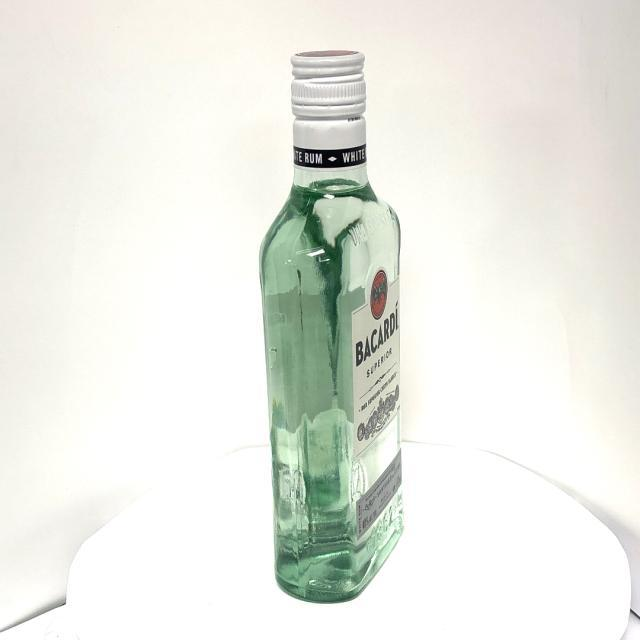BACARDI SUPERIOR 375ML: (258, 49, 405, 607)
